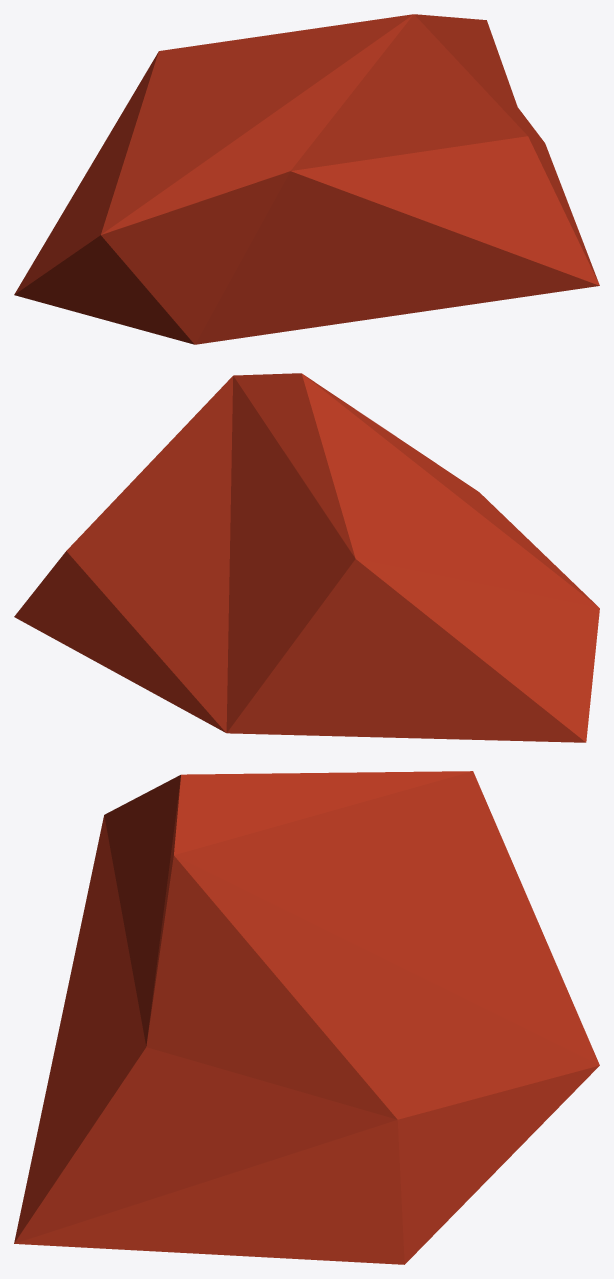
Rendered from M_R_Rock2.FBX.
3 views of the same model, one above another, from view 1: azimuth 30°, elevation 25°; view 2: azimuth 150°, elevation 25°; view 3: azimuth 270°, elevation 25° (orthographic). The views are drawn at different scales.
Parts seen in each view (by area): view 1: GeoSphere063; view 2: GeoSphere063; view 3: GeoSphere063.
Part boxes in pixels (<box>): GeoSphere063: <box>14,14,599,344</box>; GeoSphere063: <box>14,373,599,742</box>; GeoSphere063: <box>14,771,599,1264</box>.
Bounding box in the file's own units: 276 × 129 × 176.
